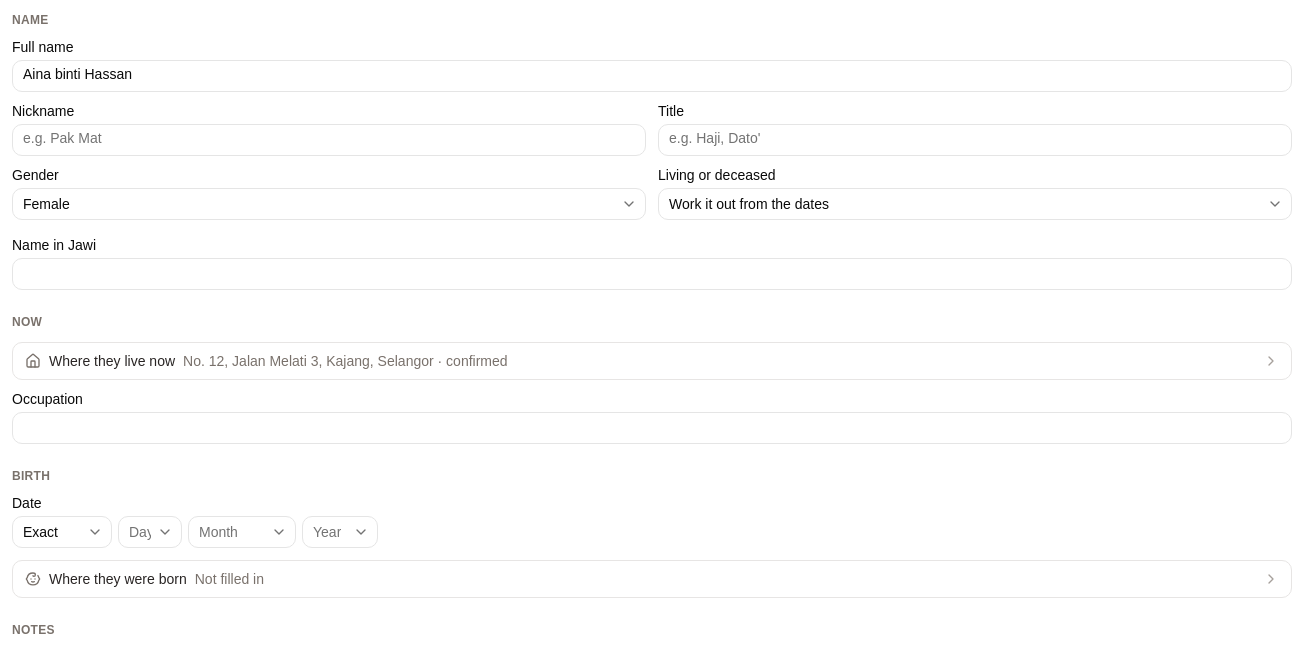
where a place is › says what would help where the small map can't be drawn
Click the button that starts with "Where they live now" at (112, 361), box [13,343,1291,379]
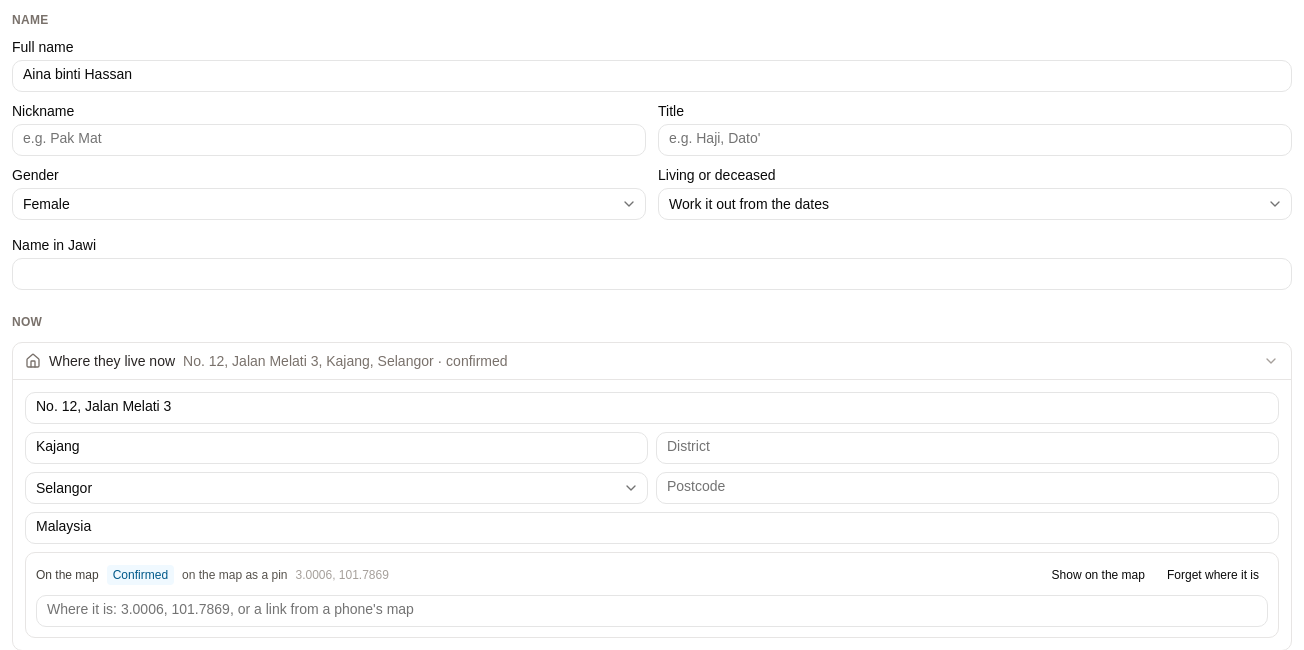
Click the button "Show on the map" at (1098, 575), box [1042,563,1154,587]
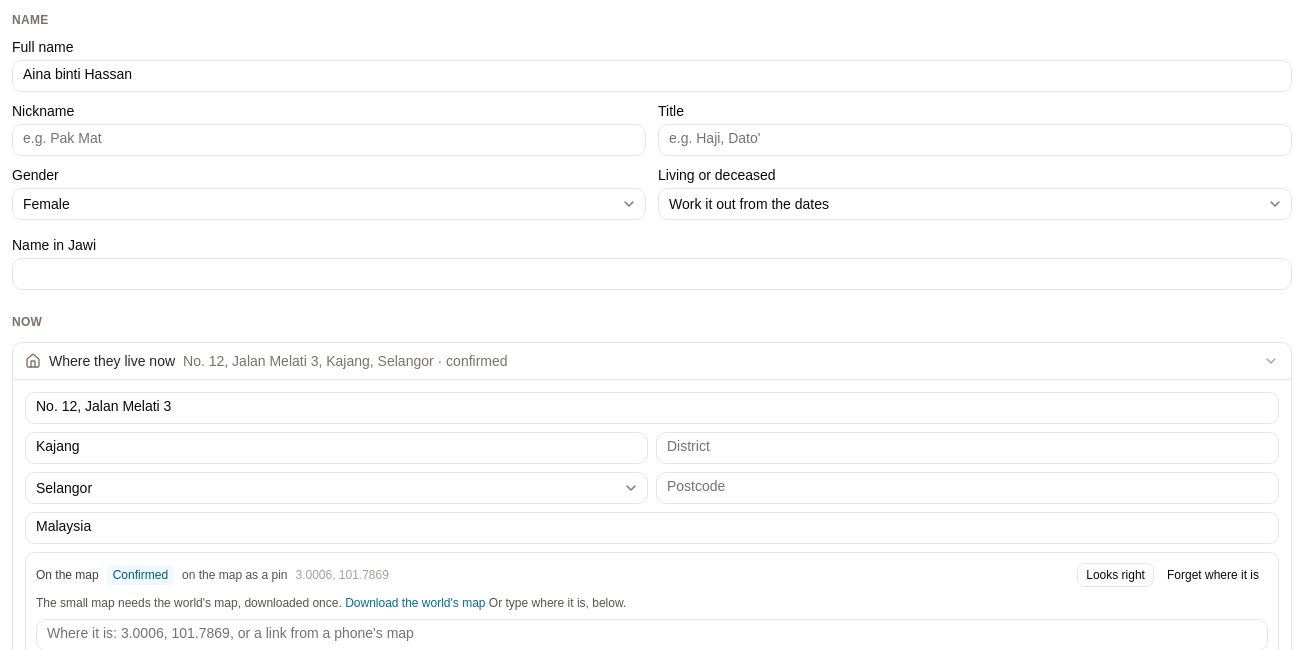
Now the button "Download the world's map" is shown, box [345,595,486,611]
